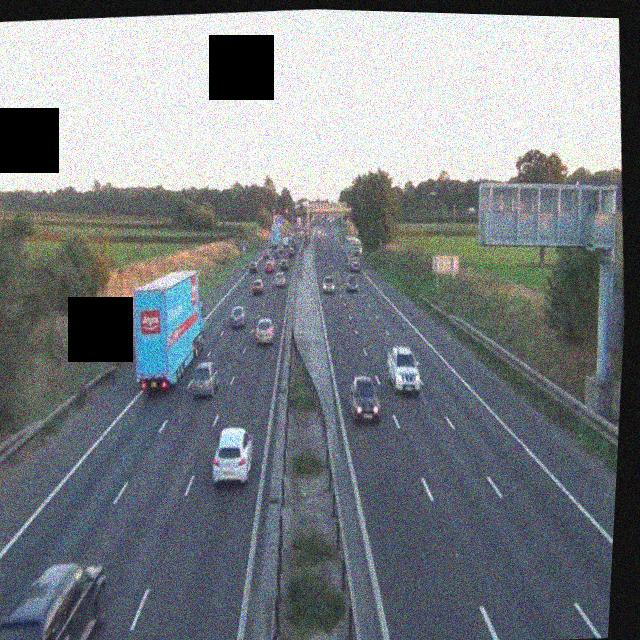car: (0, 555, 111, 640), (208, 424, 255, 485), (385, 343, 422, 397), (347, 374, 382, 423), (189, 361, 219, 398), (253, 318, 275, 345), (228, 304, 247, 329), (345, 272, 359, 292), (250, 275, 264, 294), (322, 274, 336, 293), (273, 269, 286, 287), (263, 258, 275, 273), (247, 258, 259, 273), (277, 258, 289, 273)
truck: (126, 266, 210, 392), (342, 235, 364, 274), (269, 224, 282, 247)
